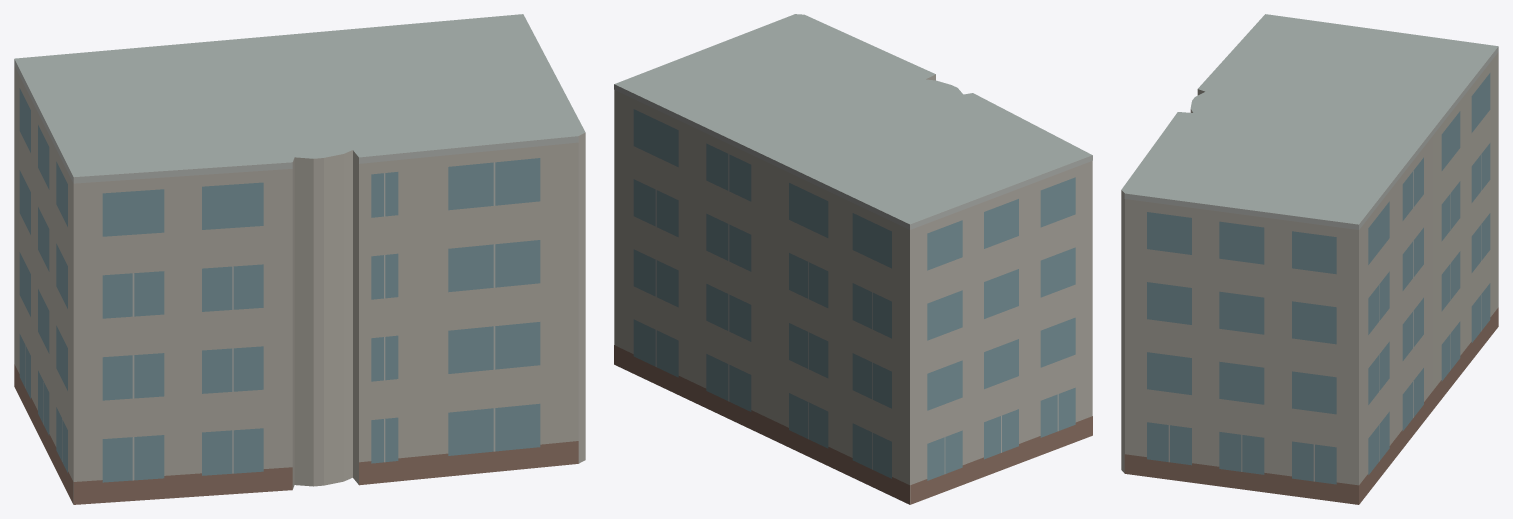
The model's file is survey-upis-32901925.glb.
3 renders of one model, left to right at view 1: azimuth 30°, elevation 25°; view 2: azimuth 150°, elevation 25°; view 3: azimuth 270°, elevation 25°, orthographic. The views are drawn at different scales.
Parts seen in each view (by area): view 1: survey-upis-32901925.tmp; view 2: survey-upis-32901925.tmp; view 3: survey-upis-32901925.tmp.
Part boxes in pixels (x1,y1,x2,y2): survey-upis-32901925.tmp: [14, 14, 585, 504]; survey-upis-32901925.tmp: [614, 14, 1092, 504]; survey-upis-32901925.tmp: [1121, 14, 1498, 504].
Size of the model in its own units: 19.99 by 12.4 by 15.14.
